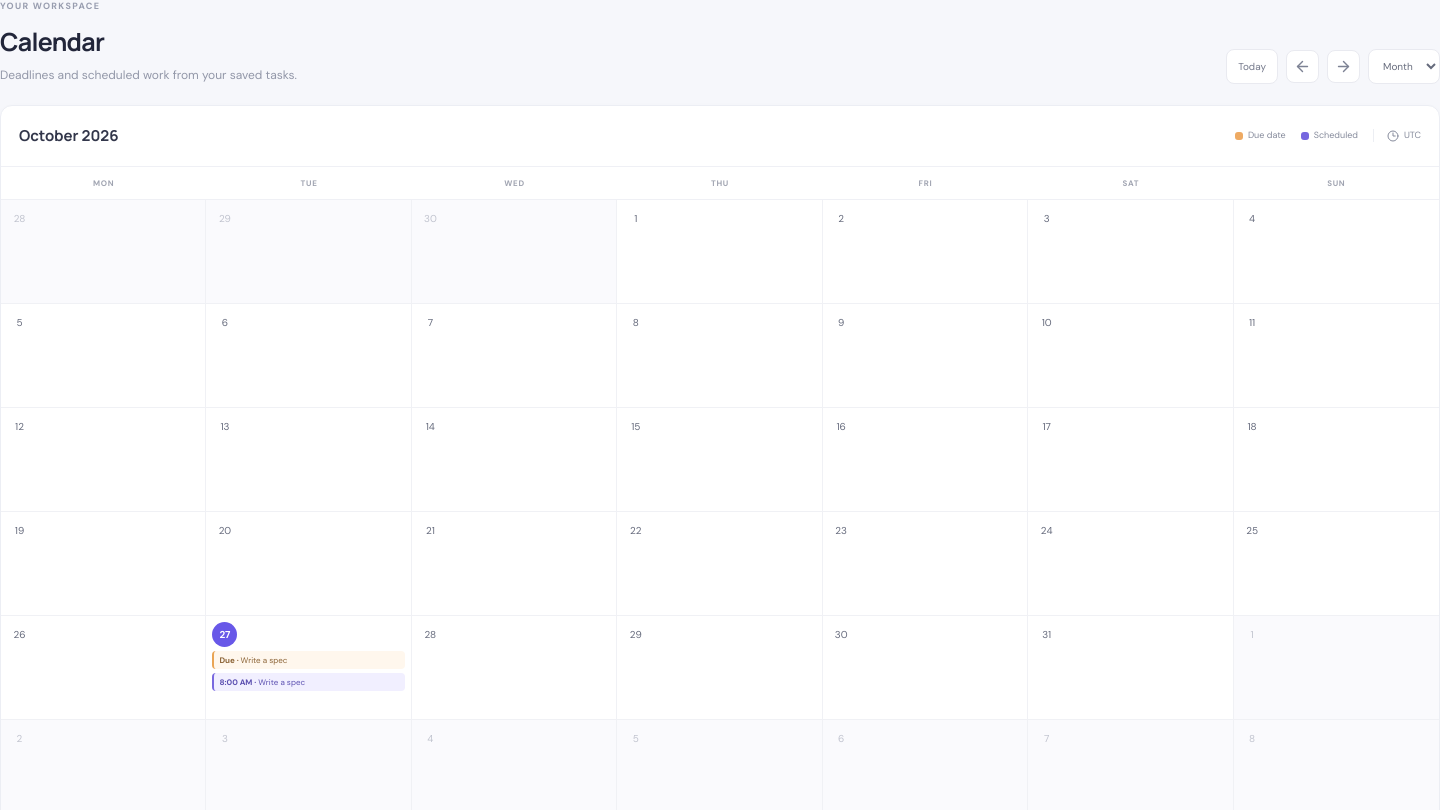
Test: CalendarPage › loads real deadline and scheduled events and supports month, week, and day views
The width and height of the screenshot is (1440, 810).
Select "Week" in the dropdown named "Calendar view" at (1404, 66), box top-left (1368, 48), bottom-right (1439, 84)
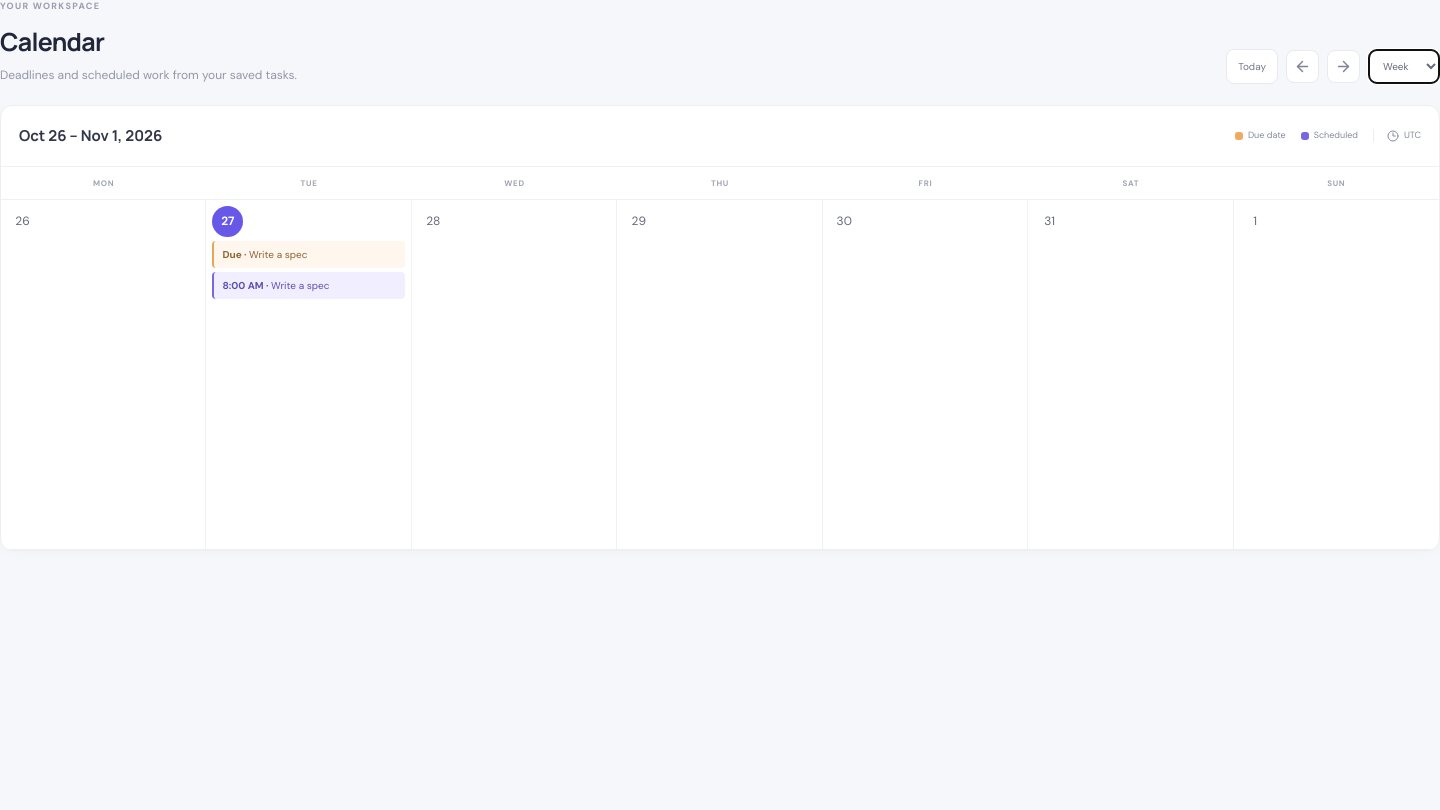
Now the table named "week calendar" is shown, box top-left (1, 166), bottom-right (1439, 550)
Select "Day" in the dropdown named "Calendar view" at (1404, 66), box top-left (1368, 48), bottom-right (1439, 84)
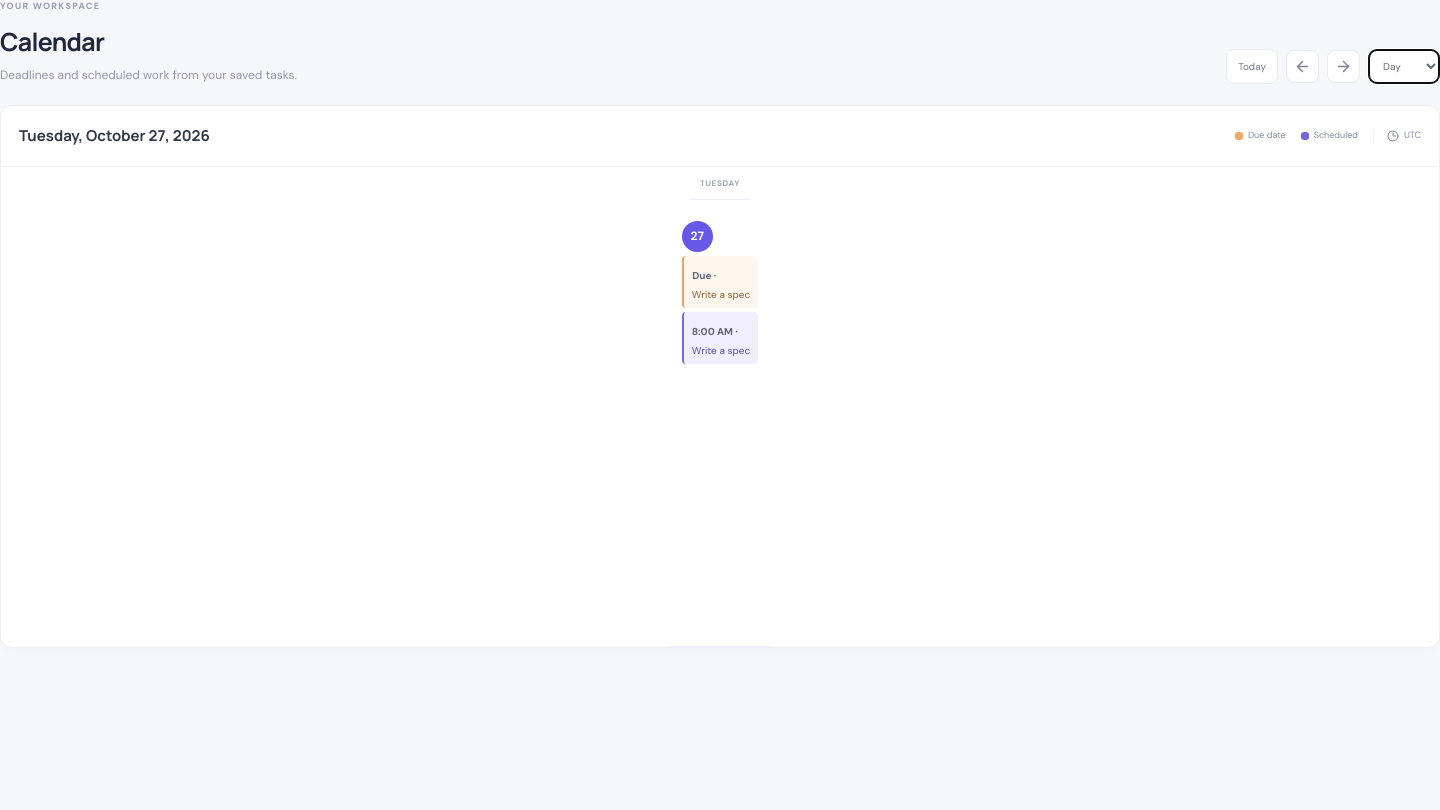
Now the table named "day calendar" is shown, box top-left (668, 166), bottom-right (772, 646)
